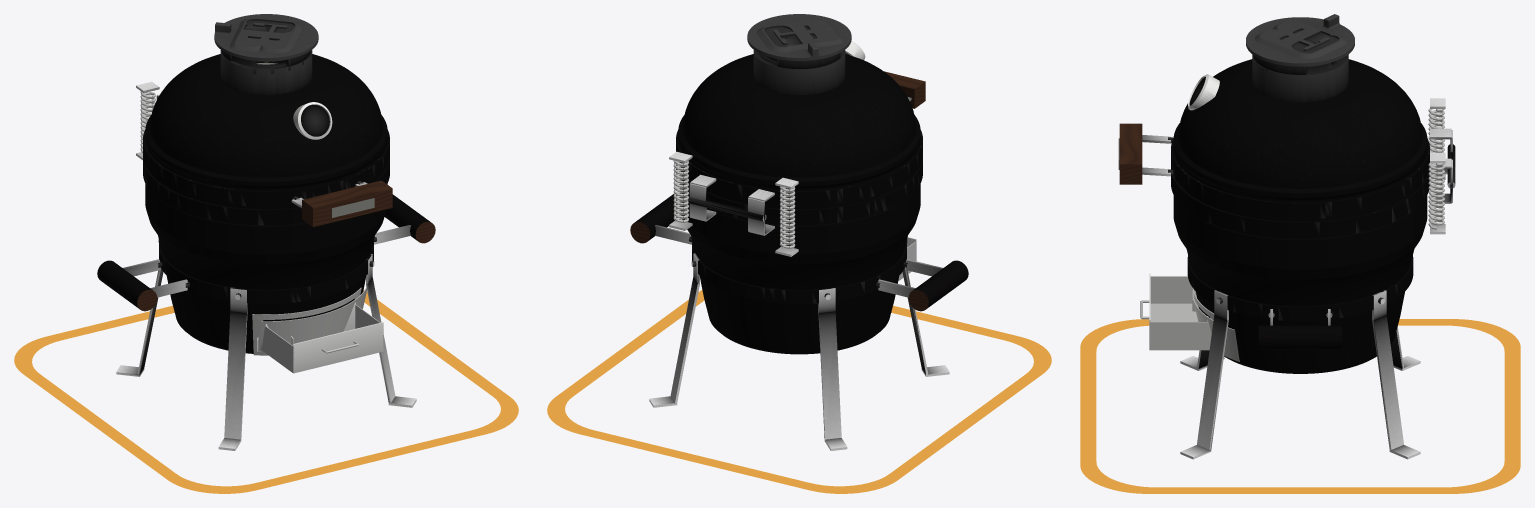
Rendered from grill-bill-pro-3-medium-16.glb.
3 views of the same model, side by side, from view 1: azimuth 30°, elevation 25°; view 2: azimuth 150°, elevation 25°; view 3: azimuth 270°, elevation 25° (orthographic). The views are drawn at different scales.
Parts seen in each view (by area): view 1: base, lid; view 2: base, lid; view 3: base, lid.
Boxes of the visible parts, x1,y1,x2,y2 form: base: (14, 91, 518, 493); lid: (136, 14, 392, 227); base: (547, 145, 1051, 493); lid: (669, 14, 925, 218); base: (1080, 108, 1520, 493); lid: (1118, 14, 1452, 219).
Size of the model in its own units: 0.6441 by 0.6475 by 0.6853.
Materials: 20 (7 with a texture image).
